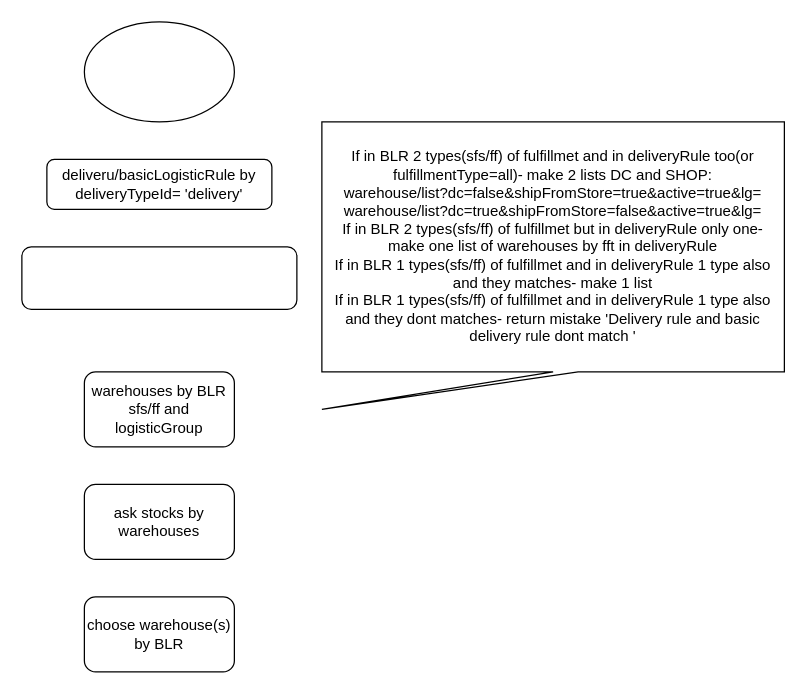
Image size: 806x694. Some labels were removed from this diagram. Each missing label, with the box of its shape:
delivery/rule by deliveryTypeId='delivery' fulfillmentType by fft in BLR: (21, 246, 297, 309)
Start: (83, 21, 234, 122)
